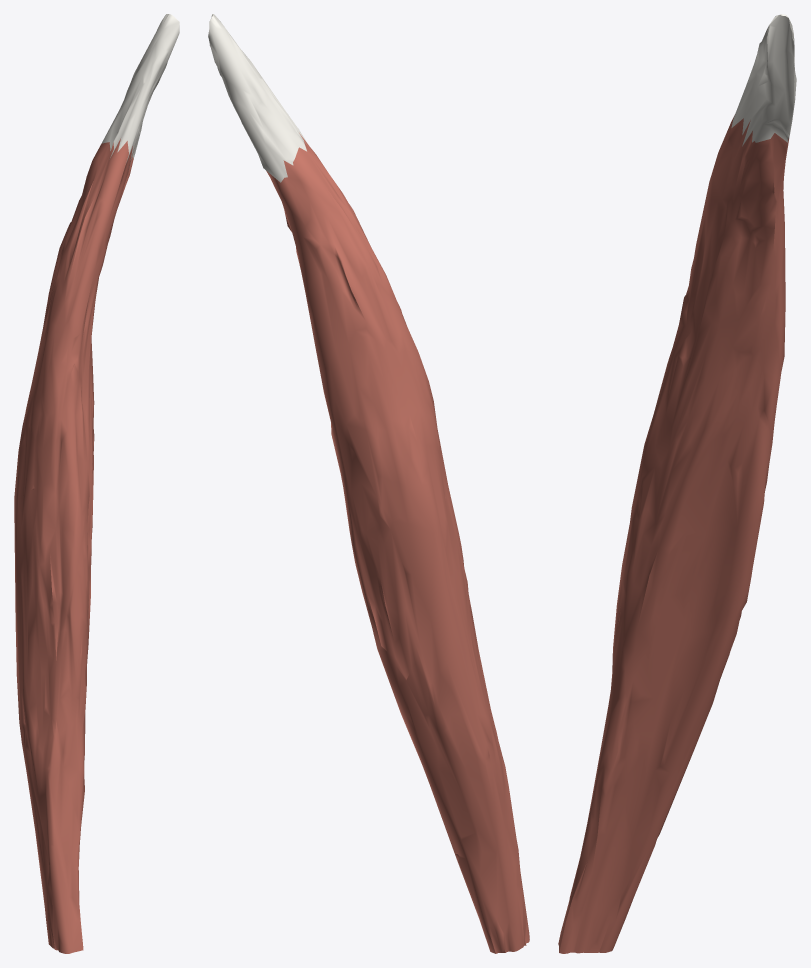
File: long-extenseur-radial-carpe.glb
3 renders of one model, left to right at view 1: azimuth 30°, elevation 25°; view 2: azimuth 150°, elevation 25°; view 3: azimuth 270°, elevation 25°, orthographic. The views are drawn at different scales.
Parts seen in each view (by area): view 1: long-extenseur-radial-carpe; view 2: long-extenseur-radial-carpe; view 3: long-extenseur-radial-carpe.
Part boxes in pixels (x1,y1,x2,y2): long-extenseur-radial-carpe: (14,14,179,953); long-extenseur-radial-carpe: (208,14,529,953); long-extenseur-radial-carpe: (558,14,796,953).
Size of the model in its own units: 0.0495 by 0.1949 by 0.0403.
